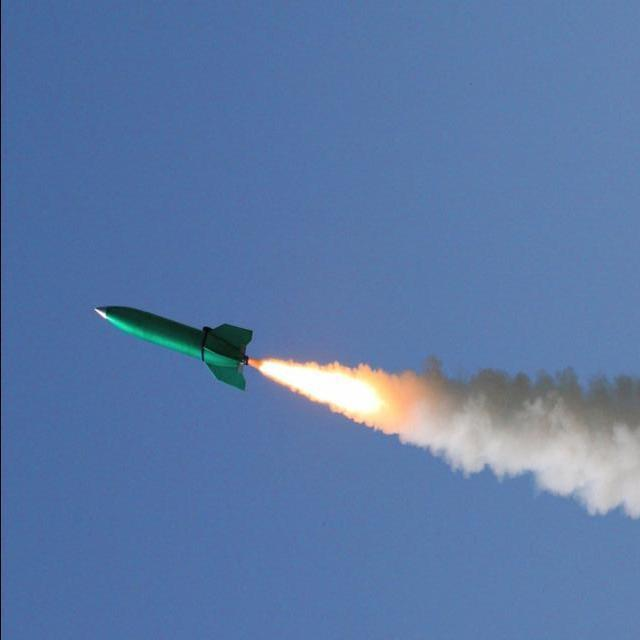missile: (91, 299, 272, 389)
